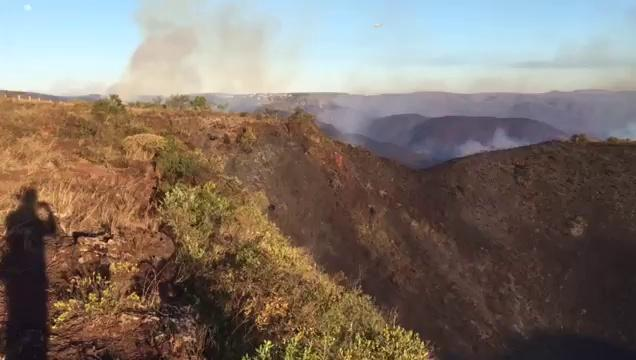smoke: (137, 39, 192, 96)
